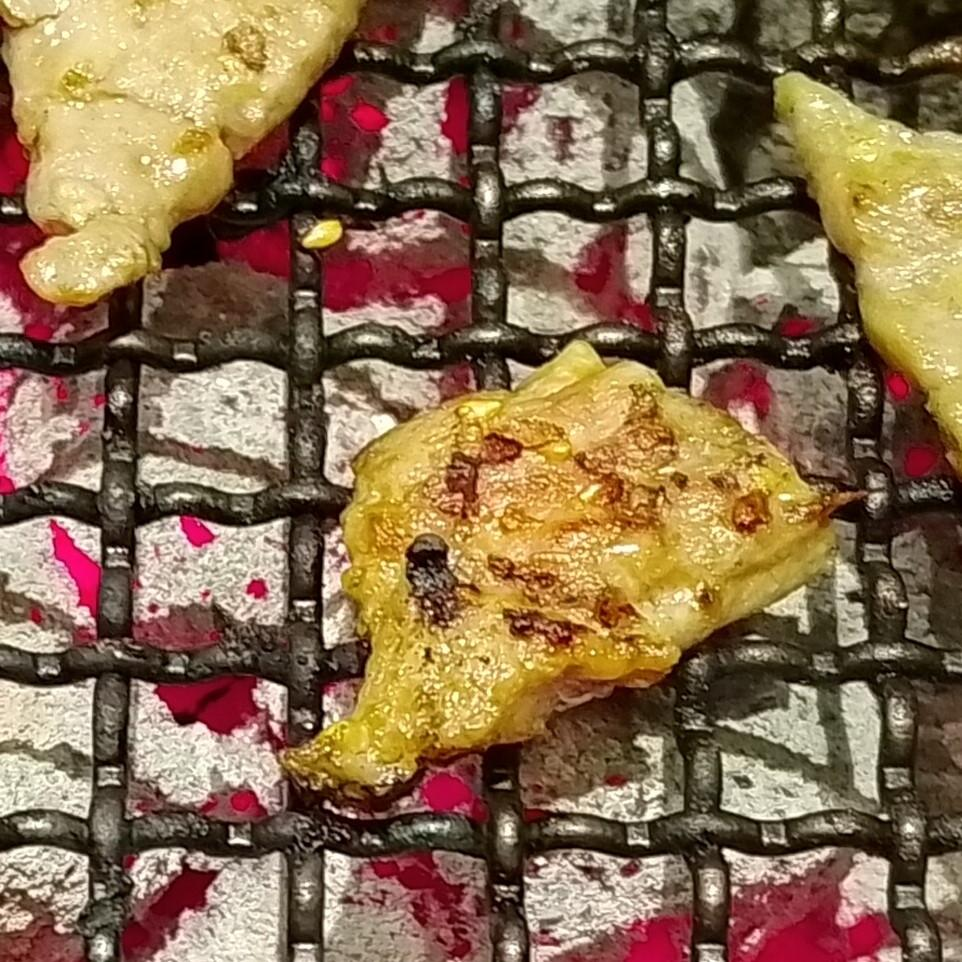Overcooked: (281, 341, 863, 804)
